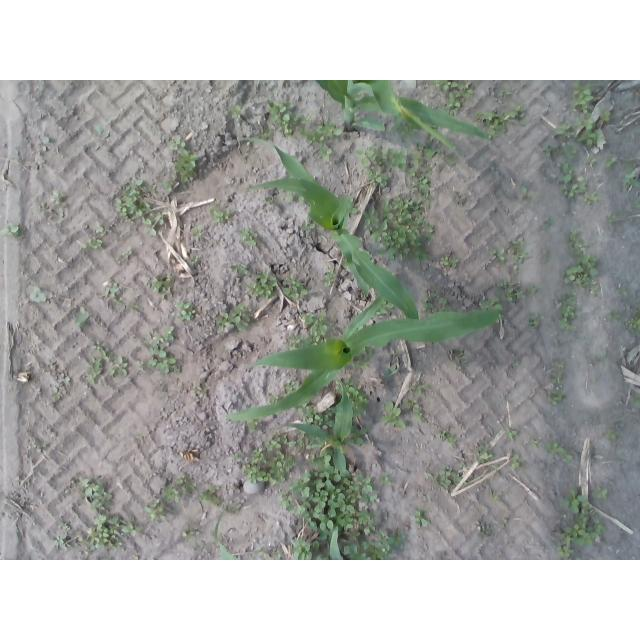Weeds: (286, 467, 382, 538), (364, 192, 436, 266), (554, 485, 607, 559), (240, 433, 298, 488), (548, 111, 612, 150), (562, 238, 602, 295), (84, 512, 140, 552), (117, 183, 158, 230), (87, 343, 131, 385), (147, 326, 182, 377), (357, 145, 394, 191), (430, 80, 479, 114), (560, 162, 599, 204), (266, 99, 307, 136), (170, 137, 199, 188), (476, 107, 520, 138), (212, 304, 253, 337), (79, 476, 114, 512), (300, 311, 331, 345), (406, 381, 431, 422), (245, 270, 277, 302), (555, 293, 580, 331), (140, 496, 176, 522), (493, 237, 527, 264), (162, 477, 194, 505), (380, 399, 406, 431), (613, 156, 638, 189), (308, 120, 339, 145), (432, 465, 464, 489), (499, 277, 525, 304), (574, 83, 598, 112), (542, 439, 572, 462), (54, 522, 75, 551), (299, 404, 329, 424), (284, 277, 309, 300), (106, 283, 126, 310), (200, 488, 228, 507), (407, 173, 431, 195), (350, 384, 370, 409), (389, 148, 409, 172), (152, 275, 173, 296), (177, 300, 197, 322), (423, 292, 448, 309), (86, 230, 107, 250), (475, 442, 495, 463), (237, 227, 259, 246), (210, 206, 234, 223), (312, 142, 333, 161), (438, 429, 459, 447), (550, 361, 567, 383), (74, 307, 91, 329), (413, 506, 431, 526), (418, 146, 439, 163), (548, 391, 569, 407), (603, 426, 622, 443), (323, 269, 339, 288), (438, 256, 461, 269), (616, 282, 633, 299), (525, 283, 542, 300), (519, 184, 534, 202), (593, 485, 611, 499), (509, 452, 523, 469), (315, 146, 333, 159), (5, 224, 24, 236), (478, 524, 495, 537), (231, 103, 245, 118), (528, 312, 541, 328), (184, 527, 197, 543), (302, 218, 317, 231), (505, 428, 519, 441), (233, 264, 247, 275), (606, 213, 619, 224), (257, 553, 279, 559)
